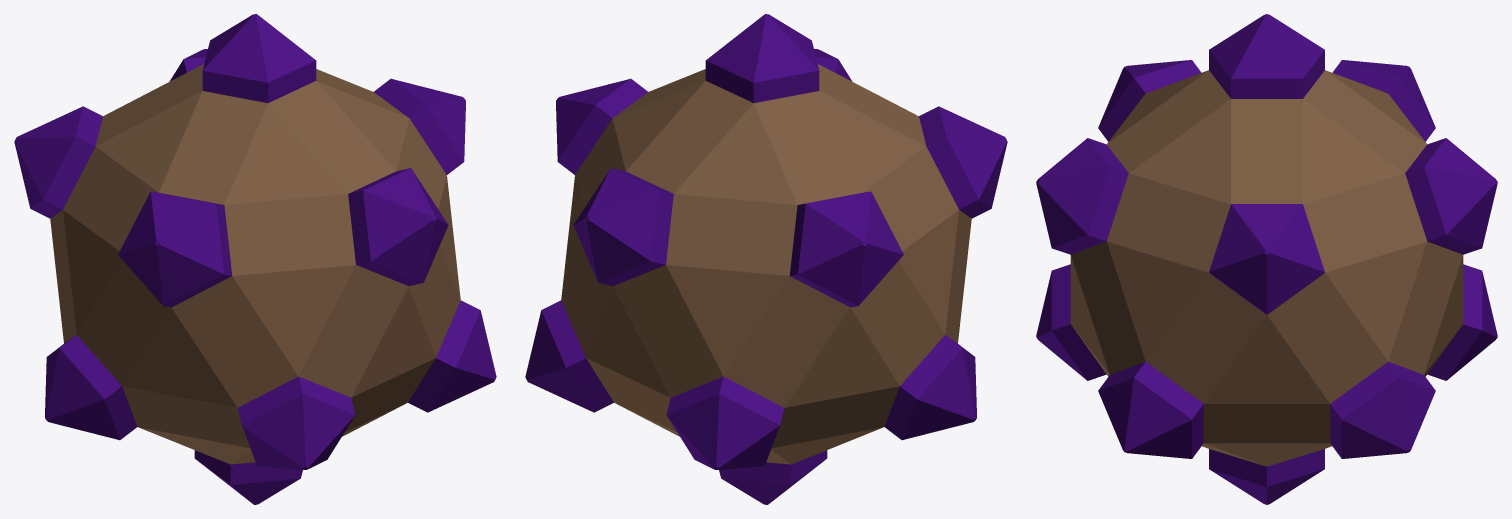
The model's file is CrystofBullet.fbx.
3 views of the same model, side by side, from view 1: azimuth 30°, elevation 25°; view 2: azimuth 150°, elevation 25°; view 3: azimuth 270°, elevation 25° (orthographic).
Parts seen in each view (by area): view 1: Icosphere.001; view 2: Icosphere.001; view 3: Icosphere.001.
Part boxes in pixels (x1,y1,x2,y2): Icosphere.001: (14, 14, 496, 504); Icosphere.001: (525, 14, 1007, 504); Icosphere.001: (1036, 14, 1497, 504).
Size of the model in its own units: 19.64 by 21.84 by 18.68.
